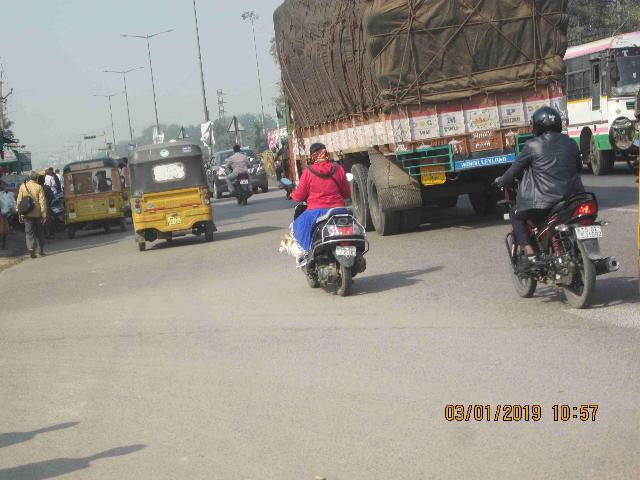helm: (532, 108, 563, 138)
motor: (498, 187, 620, 309), (296, 206, 371, 297), (236, 174, 255, 206)
non-helm: (311, 144, 327, 165), (235, 147, 242, 154)
